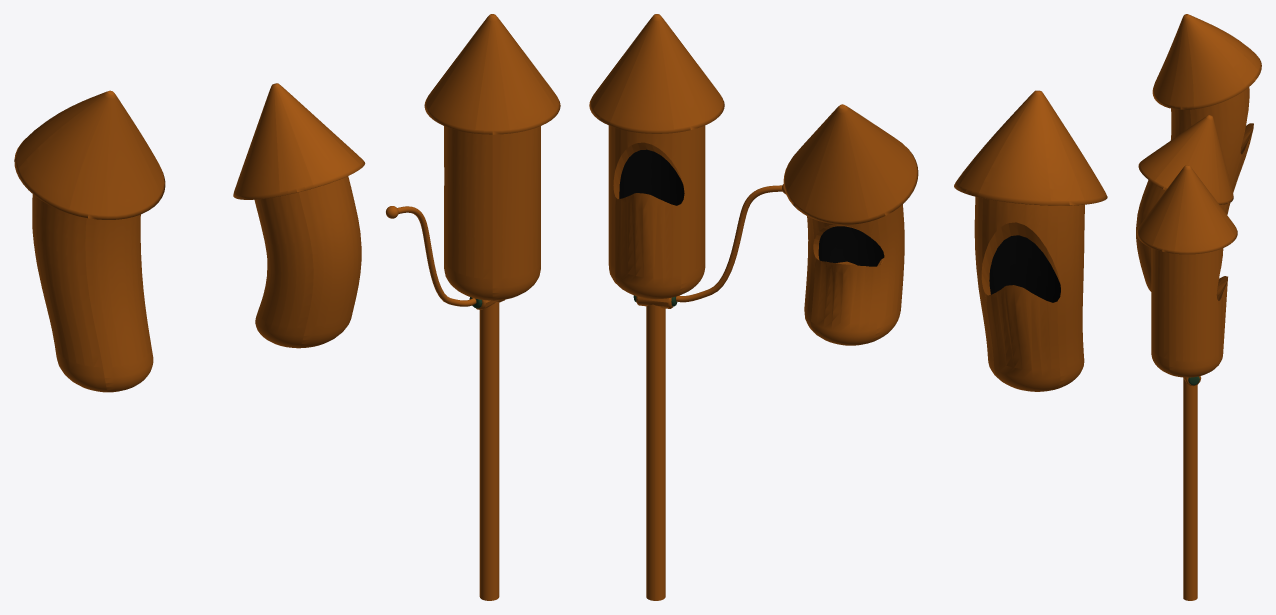
The model's file is whistle.obj.
3 views of the same model, side by side, from view 1: azimuth 30°, elevation 25°; view 2: azimuth 150°, elevation 25°; view 3: azimuth 270°, elevation 25° (orthographic). The views are drawn at different scales.
Parts seen in each view (by area): view 1: blow, whistle_sp, windup, whistle_ne, whistle_le; view 2: blow, whistle_sp, windup, whistle_ne, whistle_le; view 3: whistle_sp, blow, windup, whistle_ne.
Part boxes in pixels (x1=…): blow: x1=14, y1=90, x2=165, y2=392; whistle_sp: x1=424, y1=14, x2=560, y2=300; windup: x1=233, y1=83, x2=365, y2=348; whistle_ne: x1=479, y1=302, x2=499, y2=600; whistle_le: x1=397, y1=206, x2=476, y2=306; blow: x1=954, y1=90, x2=1107, y2=391; whistle_sp: x1=589, y1=14, x2=724, y2=299; windup: x1=783, y1=104, x2=918, y2=345; whistle_ne: x1=646, y1=304, x2=665, y2=600; whistle_le: x1=676, y1=185, x2=782, y2=302; whistle_sp: x1=1137, y1=165, x2=1237, y2=377; blow: x1=1152, y1=14, x2=1261, y2=214; windup: x1=1136, y1=115, x2=1233, y2=291; whistle_ne: x1=1183, y1=378, x2=1197, y2=600.
Size of the model in its own units: 172 by 191 by 48.98.
